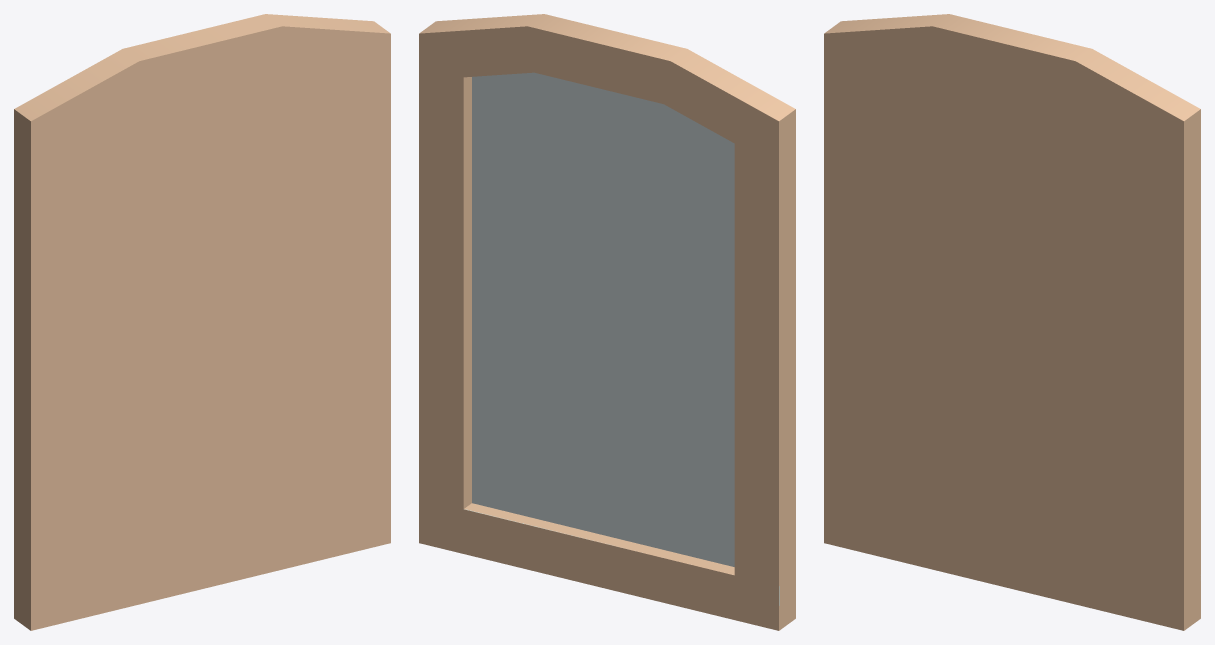
The model's file is mirror.fbx.
3 renders of one model, left to right at view 1: azimuth 30°, elevation 25°; view 2: azimuth 150°, elevation 25°; view 3: azimuth 330°, elevation 25°, orthographic.
Visible parts, largest first — view 1: bathroomMirror; view 2: bathroomMirror; view 3: bathroomMirror.
Boxes of the visible parts, x1,y1,x2,y2 form: bathroomMirror: (14, 14, 390, 630); bathroomMirror: (419, 14, 795, 630); bathroomMirror: (824, 14, 1200, 630).
Size of the model in its own units: 0.0301 by 0.0435 by 0.00244.
